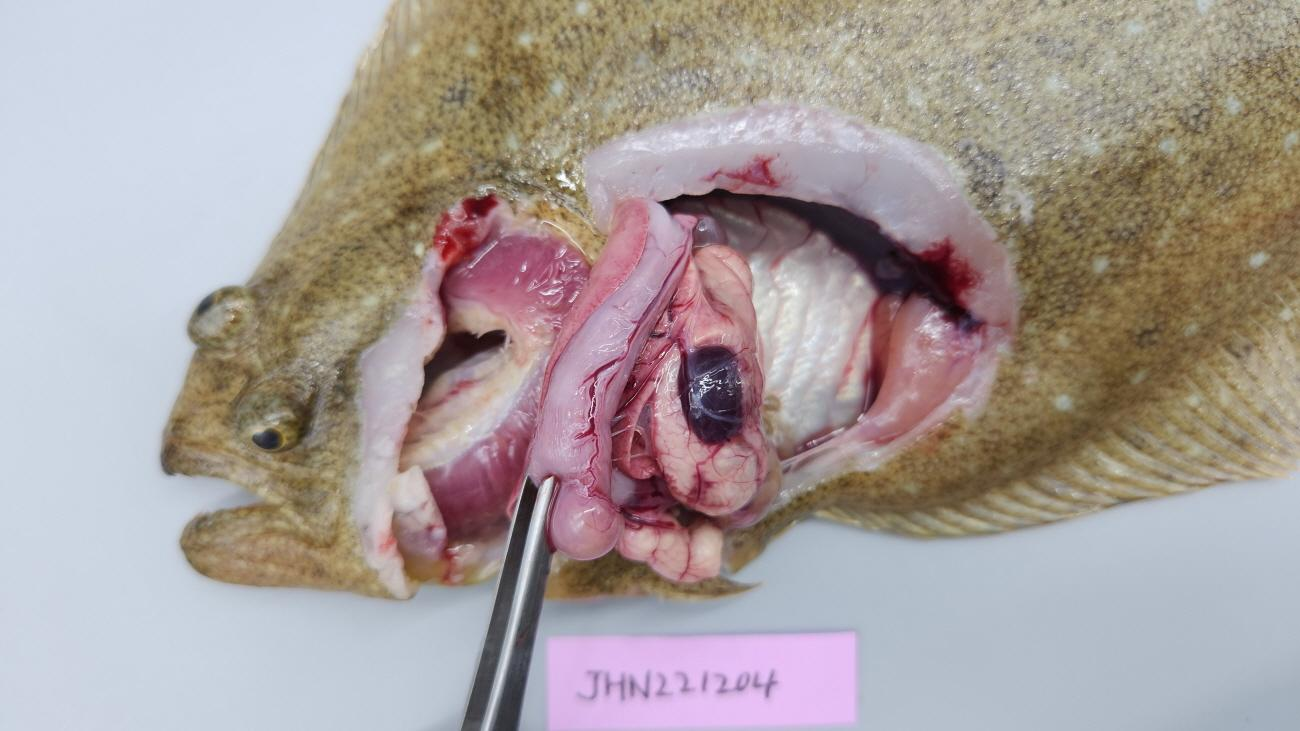POINN: (614, 509, 723, 582)
POSPN: (678, 348, 744, 444)
